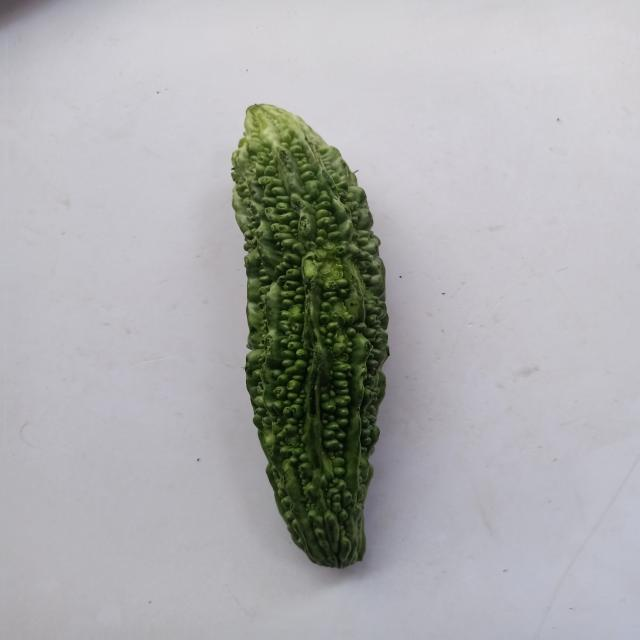Bitter Gourd: (130, 78, 472, 590)
